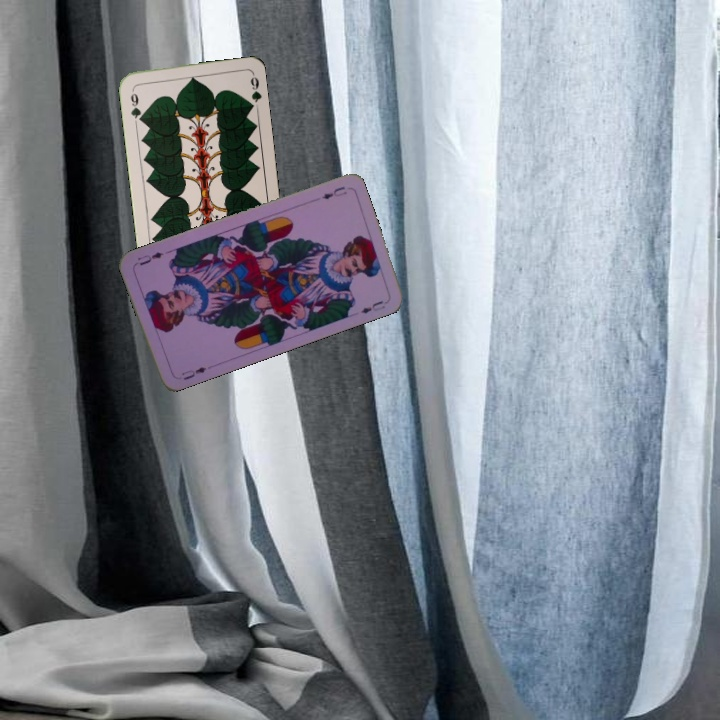EU: (178, 363, 209, 383), (318, 182, 349, 202)
G9: (126, 85, 145, 125)
